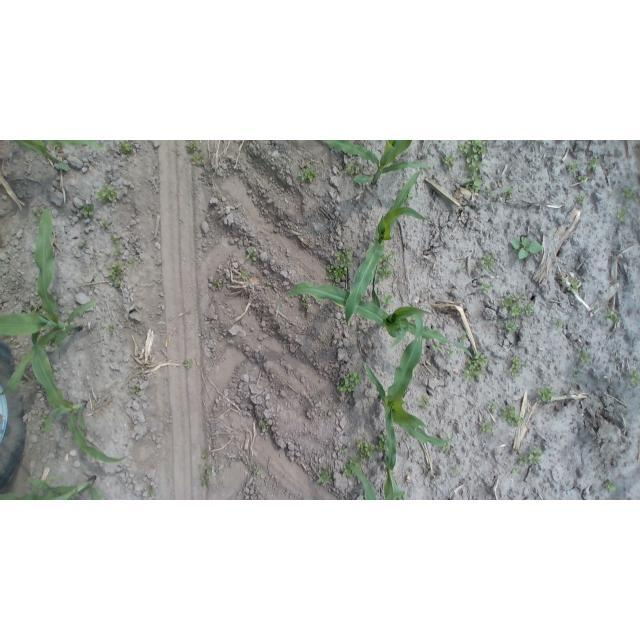Maize: (1, 208, 97, 396), (364, 310, 453, 496), (280, 277, 469, 360), (31, 316, 133, 462), (345, 165, 432, 330), (320, 140, 434, 193), (9, 141, 108, 172), (0, 471, 102, 499), (349, 464, 377, 500)
Weeds: (461, 141, 487, 192), (325, 246, 353, 284), (463, 352, 488, 381), (510, 236, 542, 258), (337, 370, 363, 394), (516, 446, 544, 467), (378, 250, 394, 283), (499, 406, 522, 426), (109, 262, 124, 289), (97, 185, 118, 204), (510, 301, 535, 316), (508, 356, 524, 379), (357, 439, 376, 458), (299, 163, 318, 182), (500, 293, 523, 306), (316, 467, 332, 485), (538, 387, 554, 404), (480, 253, 497, 269), (344, 457, 362, 472), (604, 307, 620, 323), (342, 463, 358, 478), (198, 468, 210, 488), (185, 142, 203, 155), (586, 157, 601, 172), (119, 141, 134, 156), (504, 319, 520, 333), (78, 203, 94, 217), (578, 348, 591, 365), (33, 207, 46, 223), (621, 187, 635, 201), (442, 155, 454, 171), (628, 369, 638, 388), (502, 186, 516, 199), (480, 421, 493, 435), (568, 279, 581, 293), (345, 163, 360, 175), (40, 415, 51, 431), (376, 434, 386, 451), (189, 155, 205, 165), (616, 208, 628, 221), (605, 480, 618, 492), (418, 396, 431, 408), (553, 318, 565, 330), (381, 294, 393, 306), (567, 163, 580, 174), (246, 249, 257, 262), (488, 401, 499, 413), (576, 194, 589, 204), (404, 189, 413, 202), (431, 342, 441, 353), (109, 234, 119, 245), (253, 465, 262, 476), (101, 219, 110, 230), (578, 174, 588, 183), (485, 187, 494, 197), (127, 257, 138, 265), (262, 423, 271, 432), (450, 466, 459, 475), (443, 442, 452, 451), (132, 386, 141, 395), (184, 360, 193, 369), (339, 446, 348, 455), (458, 333, 468, 341), (238, 272, 248, 280), (146, 485, 154, 495), (200, 449, 208, 459), (480, 283, 490, 291), (113, 248, 121, 257), (446, 348, 454, 357), (45, 475, 55, 482), (459, 266, 468, 273), (212, 279, 221, 286), (108, 324, 115, 333), (264, 280, 272, 287), (525, 141, 540, 144), (422, 288, 428, 294)
